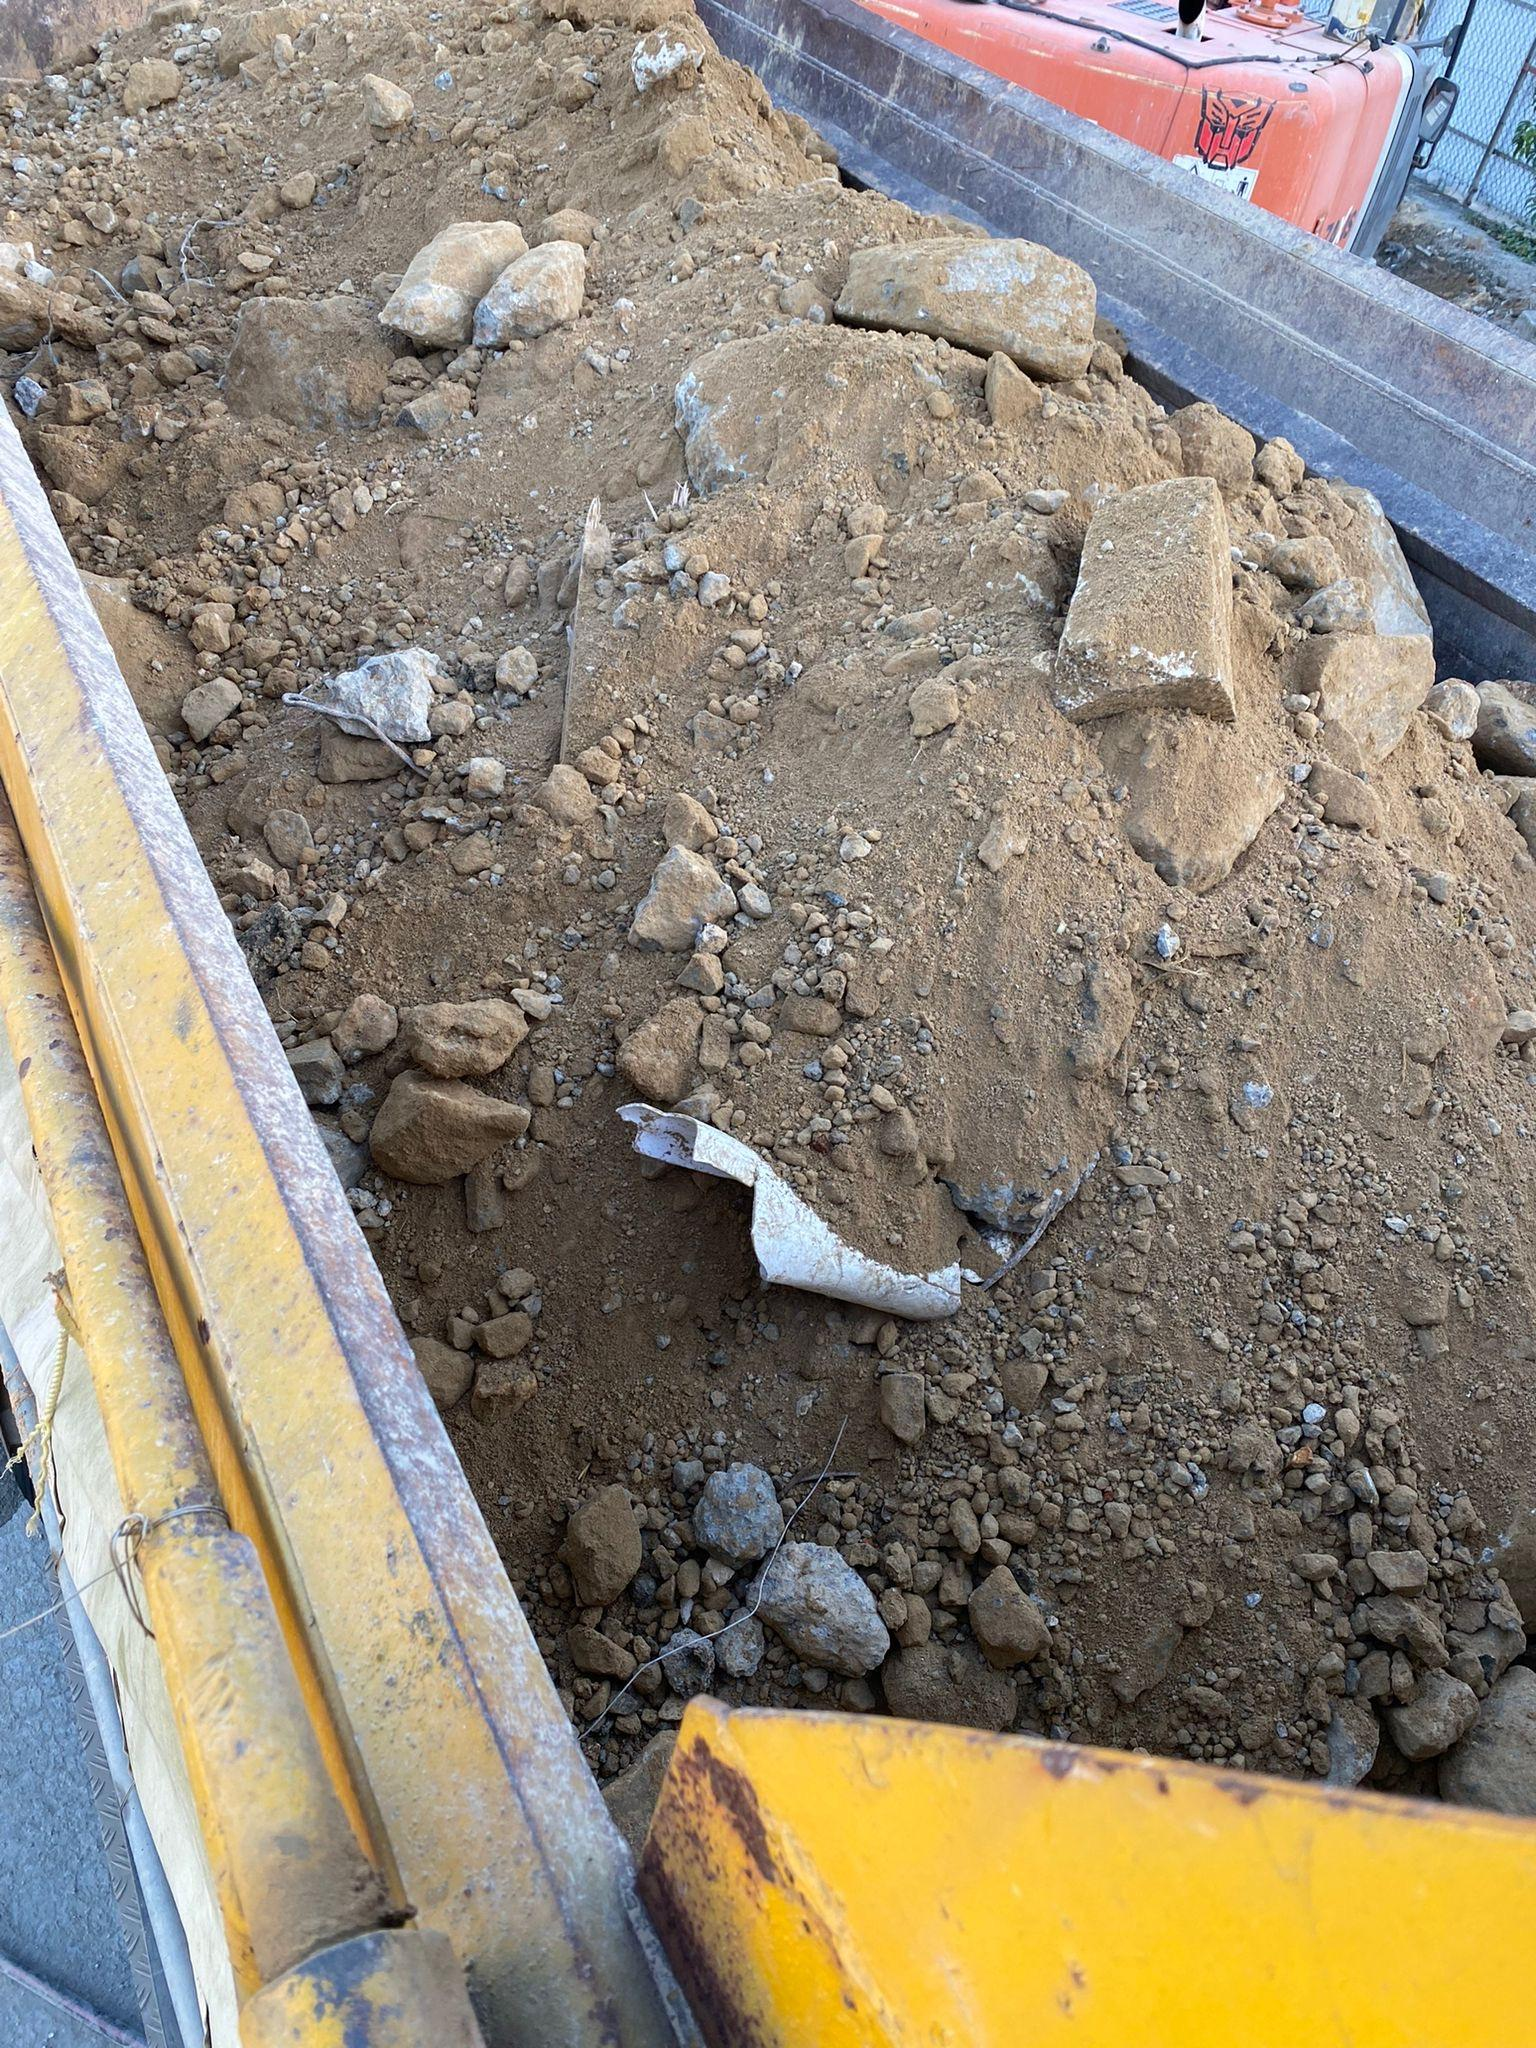dirt: (2, 0, 1533, 1823)
stone: (1049, 472, 1237, 723), (831, 232, 1098, 379), (222, 292, 398, 432), (378, 217, 527, 348), (749, 1539, 892, 1675), (367, 1071, 531, 1184), (313, 646, 439, 783), (471, 237, 587, 347), (629, 843, 737, 951), (401, 995, 529, 1077), (557, 1485, 642, 1605), (691, 1460, 783, 1560), (965, 1563, 1048, 1667)
